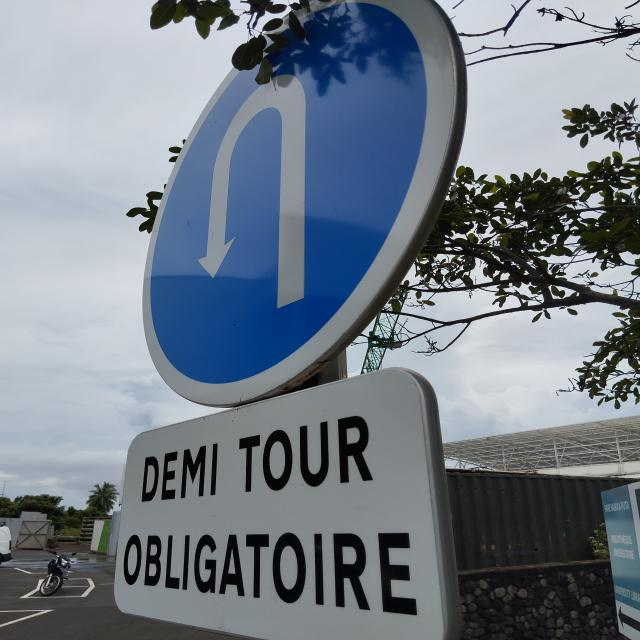Demi-Tour-Obligatoire: (143, 0, 467, 407)
